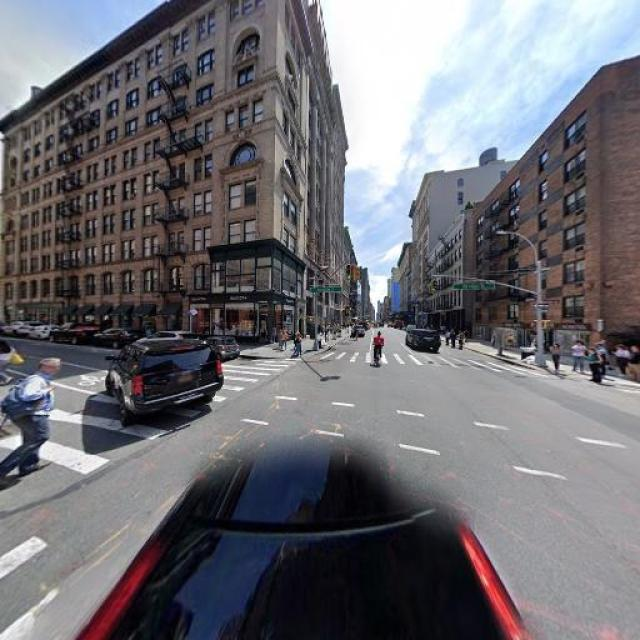Building: (13, 1, 303, 345), (475, 58, 640, 358)
